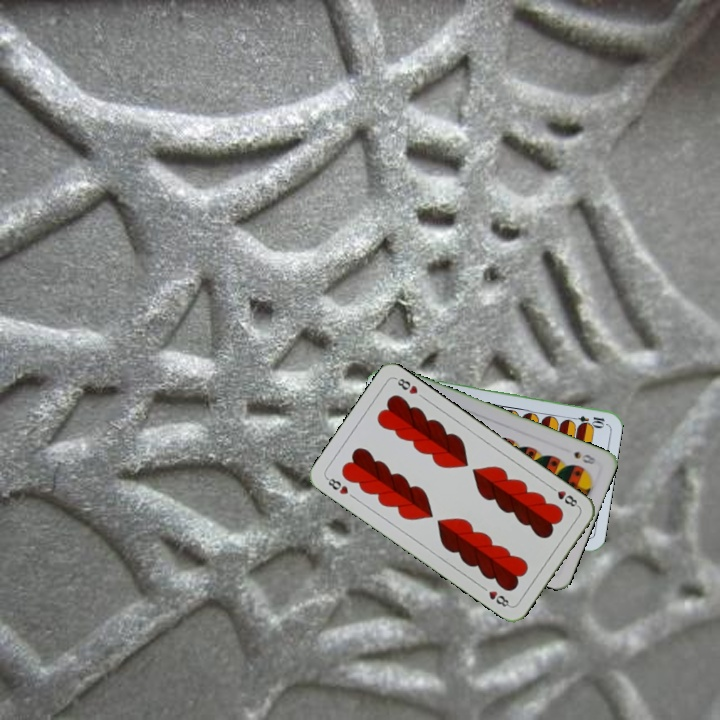E10: (566, 411, 607, 428)
H8: (546, 482, 582, 510), (322, 473, 351, 497)
S8: (570, 447, 599, 467)
